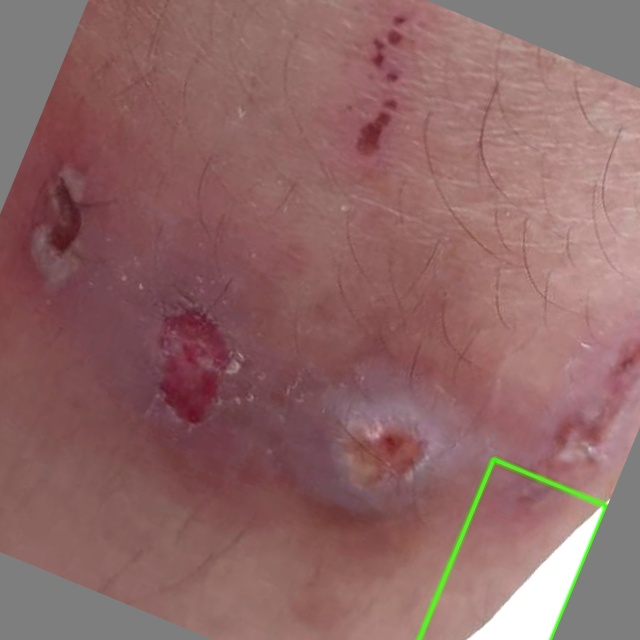Contact Dermatitis: (419, 459, 606, 639)
